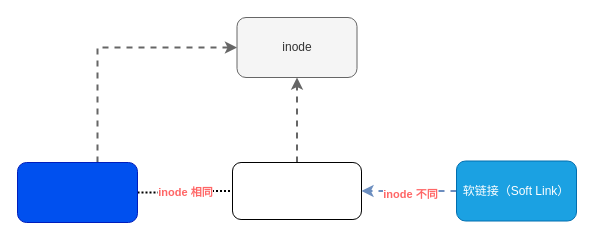
The diagram is 594 pixels wide and 240 high, and some of its shapes have lost their labels. Each missing label, with the box of its shape:
原文件（Original File）: (232, 162, 362, 220)
硬链接（Hard Link）: (16, 162, 138, 222)
